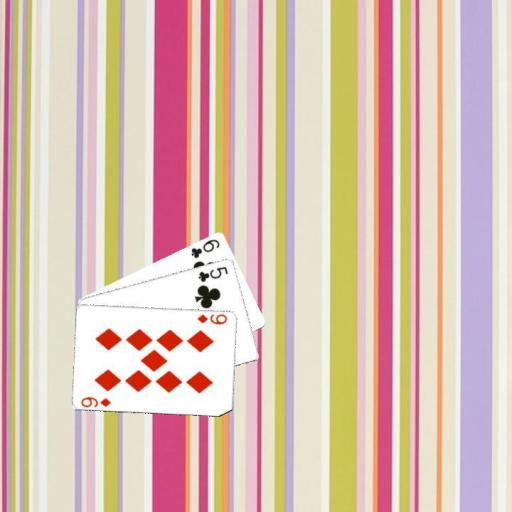5C: (195, 263, 230, 283)
6C: (188, 236, 221, 260)
9D: (194, 311, 229, 326), (79, 393, 113, 408)
